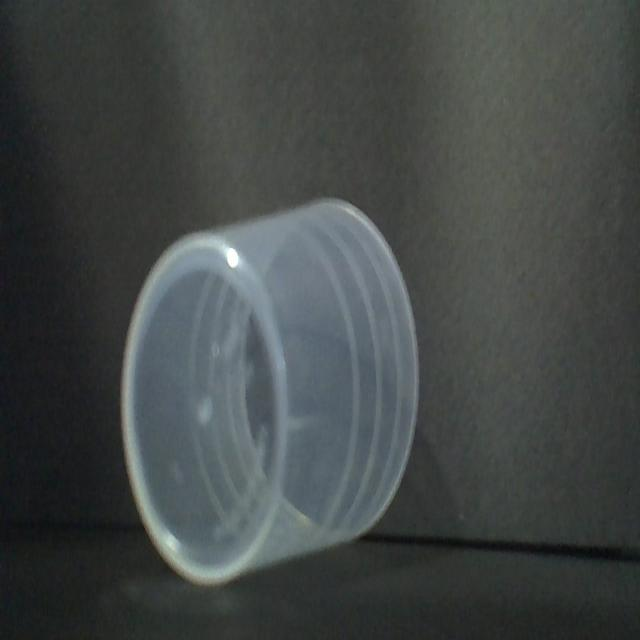cup: (117, 197, 426, 592)
